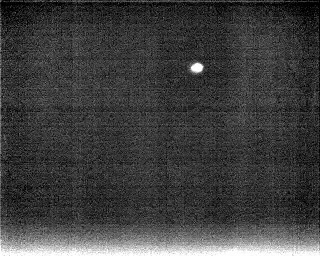AIRPLANE: (188, 59, 206, 77)
